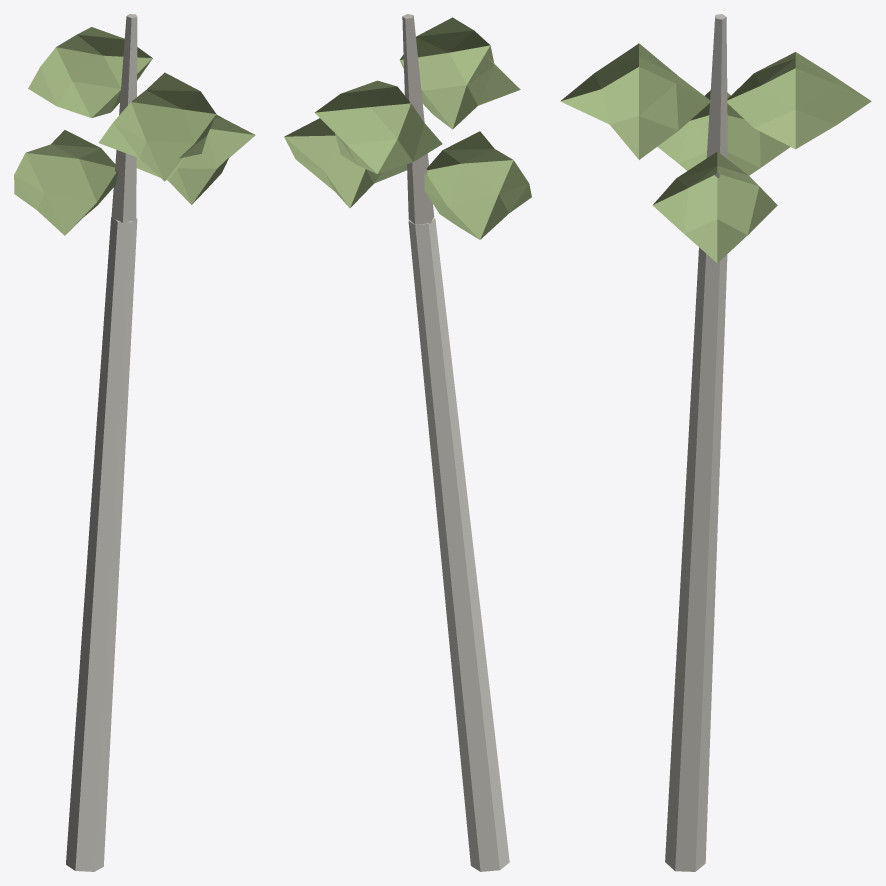
File: birch_v15.glb
3 views of the same model, side by side, from view 1: azimuth 30°, elevation 25°; view 2: azimuth 150°, elevation 25°; view 3: azimuth 270°, elevation 25° (orthographic). The views are drawn at different scales.
Visible parts, largest first — view 1: lod0; view 2: lod0; view 3: lod0.
Part boxes in pixels (bbox=[...]): lod0: bbox=[14, 14, 255, 871]; lod0: bbox=[284, 14, 531, 871]; lod0: bbox=[560, 14, 871, 871].
Size of what is drawn, in the model's own units: 1.91 by 6.21 by 1.99.
